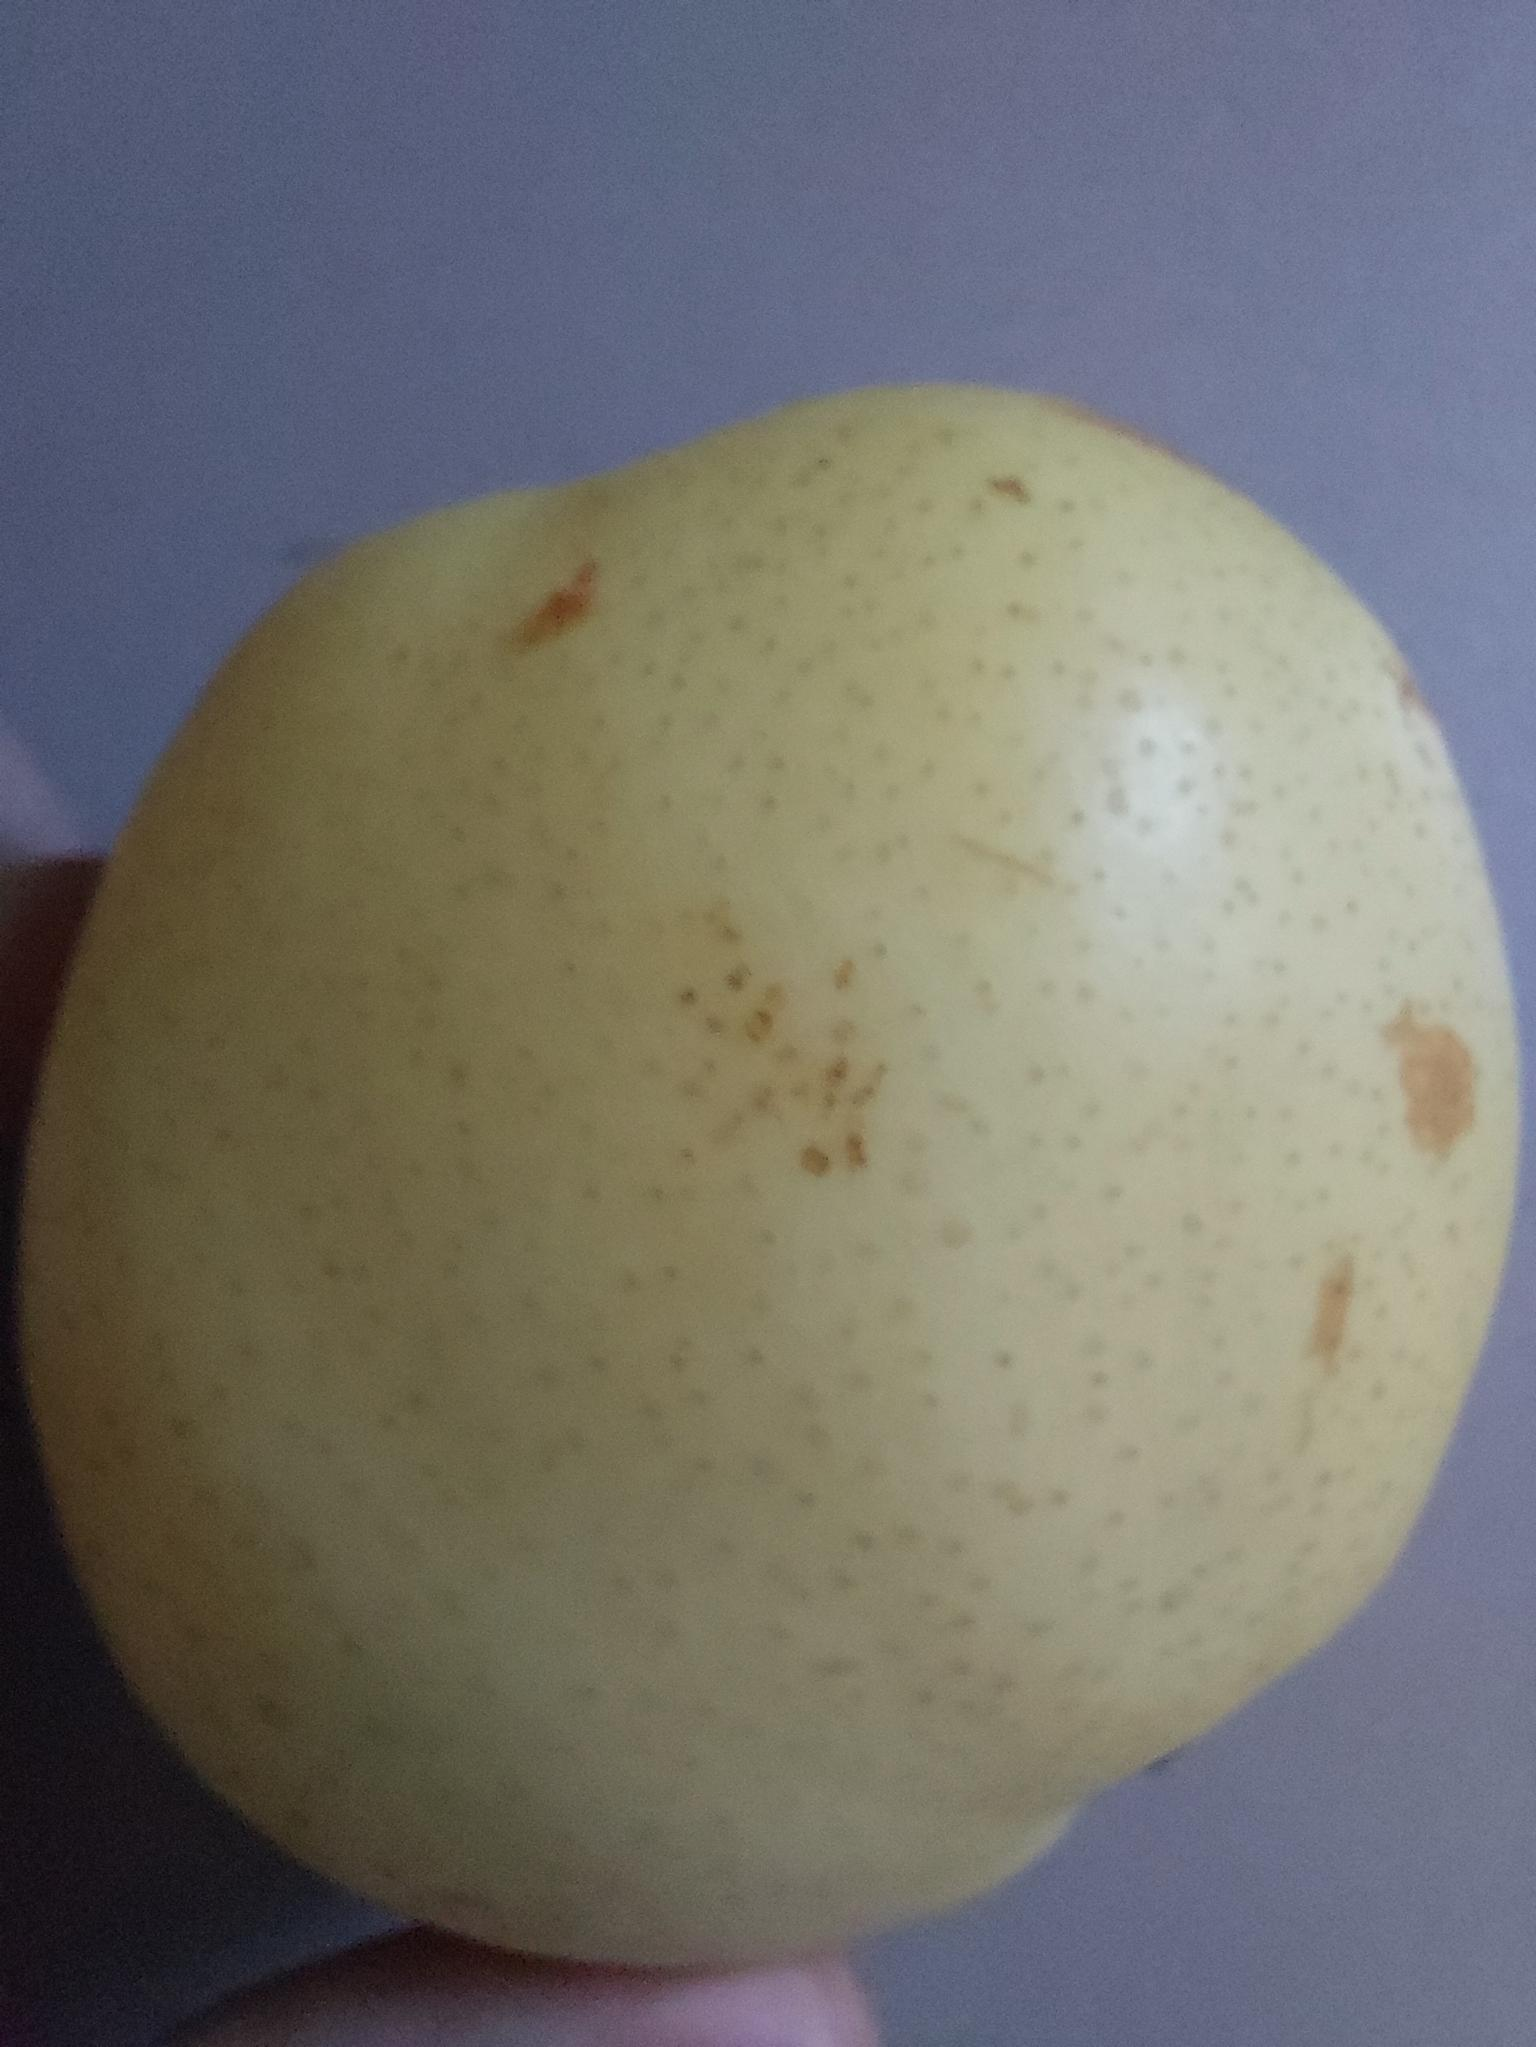Good Pear: (32, 371, 1536, 1987)
